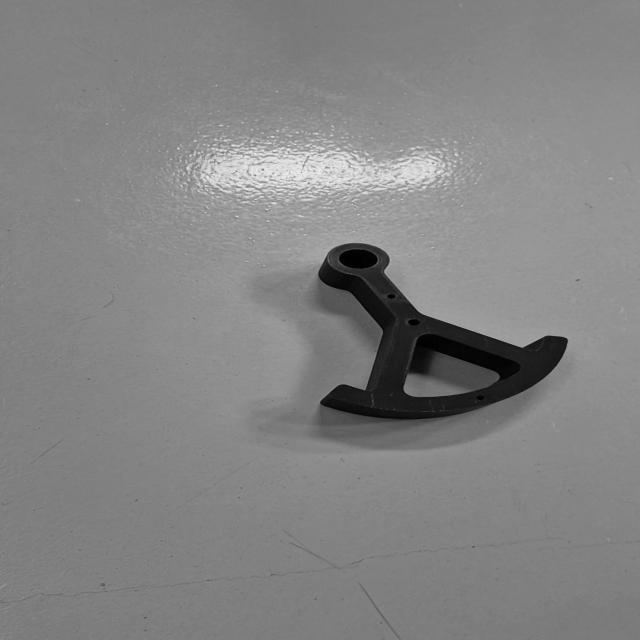haptic: (316, 241, 570, 421)
